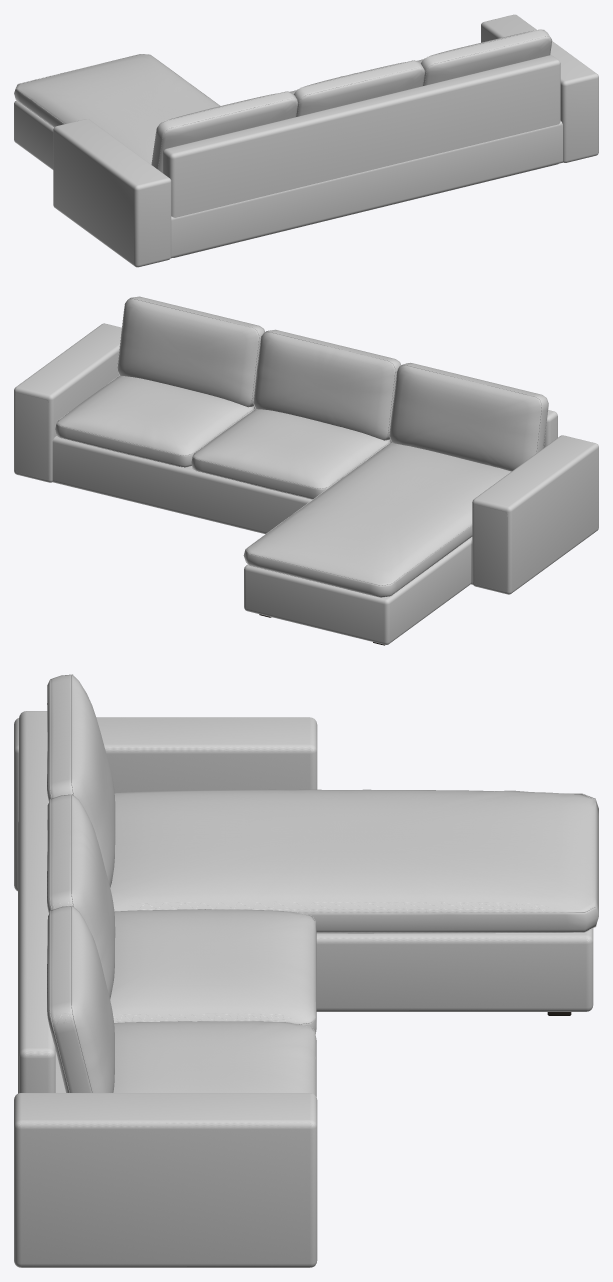
File: sofa-classic-chaise.glb
3 renders of one model, top to bottom at view 1: azimuth 30°, elevation 25°; view 2: azimuth 150°, elevation 25°; view 3: azimuth 270°, elevation 25°, orthographic. The views are drawn at different scales.
Visible parts, largest first — view 1: Structural back, Upholstered base, Upholstered arm, Seat 1, Upholstered arm.001, Back pillow 1, Back pillow 2, Back pillow 3, Chaise upholstered base; view 2: Seat 1, Upholstered arm, Back pillow 1, Upholstered base, Back pillow 2, Back pillow 3, Seat 3, Seat 2, Chaise upholstered base, Upholstered arm.001; view 3: Seat 1, Upholstered arm.001, Seat 2, Chaise upholstered base, Upholstered arm, Seat 3, Structural back, Back pillow 3, Back pillow 1, Back pillow 2.
Part boxes in pixels (x1,y1,x2,y2): Structural back: (163,55,560,257); Upholstered base: (171,121,562,258); Upholstered arm: (53,119,171,267); Seat 1: (14,54,219,164); Upholstered arm.001: (481,14,598,162); Back pillow 1: (151,91,297,172); Back pillow 2: (294,60,424,116); Back pillow 3: (421,29,551,85); Chaise upholstered base: (14,100,53,169); Seat 1: (243,442,511,597); Upholstered arm: (472,435,598,594); Back pillow 1: (389,363,548,471); Upholstered base: (52,436,472,584); Back pillow 2: (253,330,401,440); Back pillow 3: (117,296,264,406); Seat 3: (55,376,254,467); Seat 2: (191,409,390,499); Chaise upholstered base: (244,538,471,644); Upholstered arm.001: (14,323,121,482); Seat 1: (110,789,598,933); Upholstered arm.001: (14,1093,317,1267); Seat 2: (110,909,316,1033); Chaise upholstered base: (316,928,593,1011); Upholstered arm: (14,717,317,891); Seat 3: (113,1021,316,1096); Structural back: (19,711,55,1092); Back pillow 3: (47,906,114,1092); Back pillow 1: (47,674,115,887); Back pillow 2: (47,794,115,999).
Bounding box in the file's own units: 3.02 × 0.8179 × 1.83.
2 materials, 1 textured.
